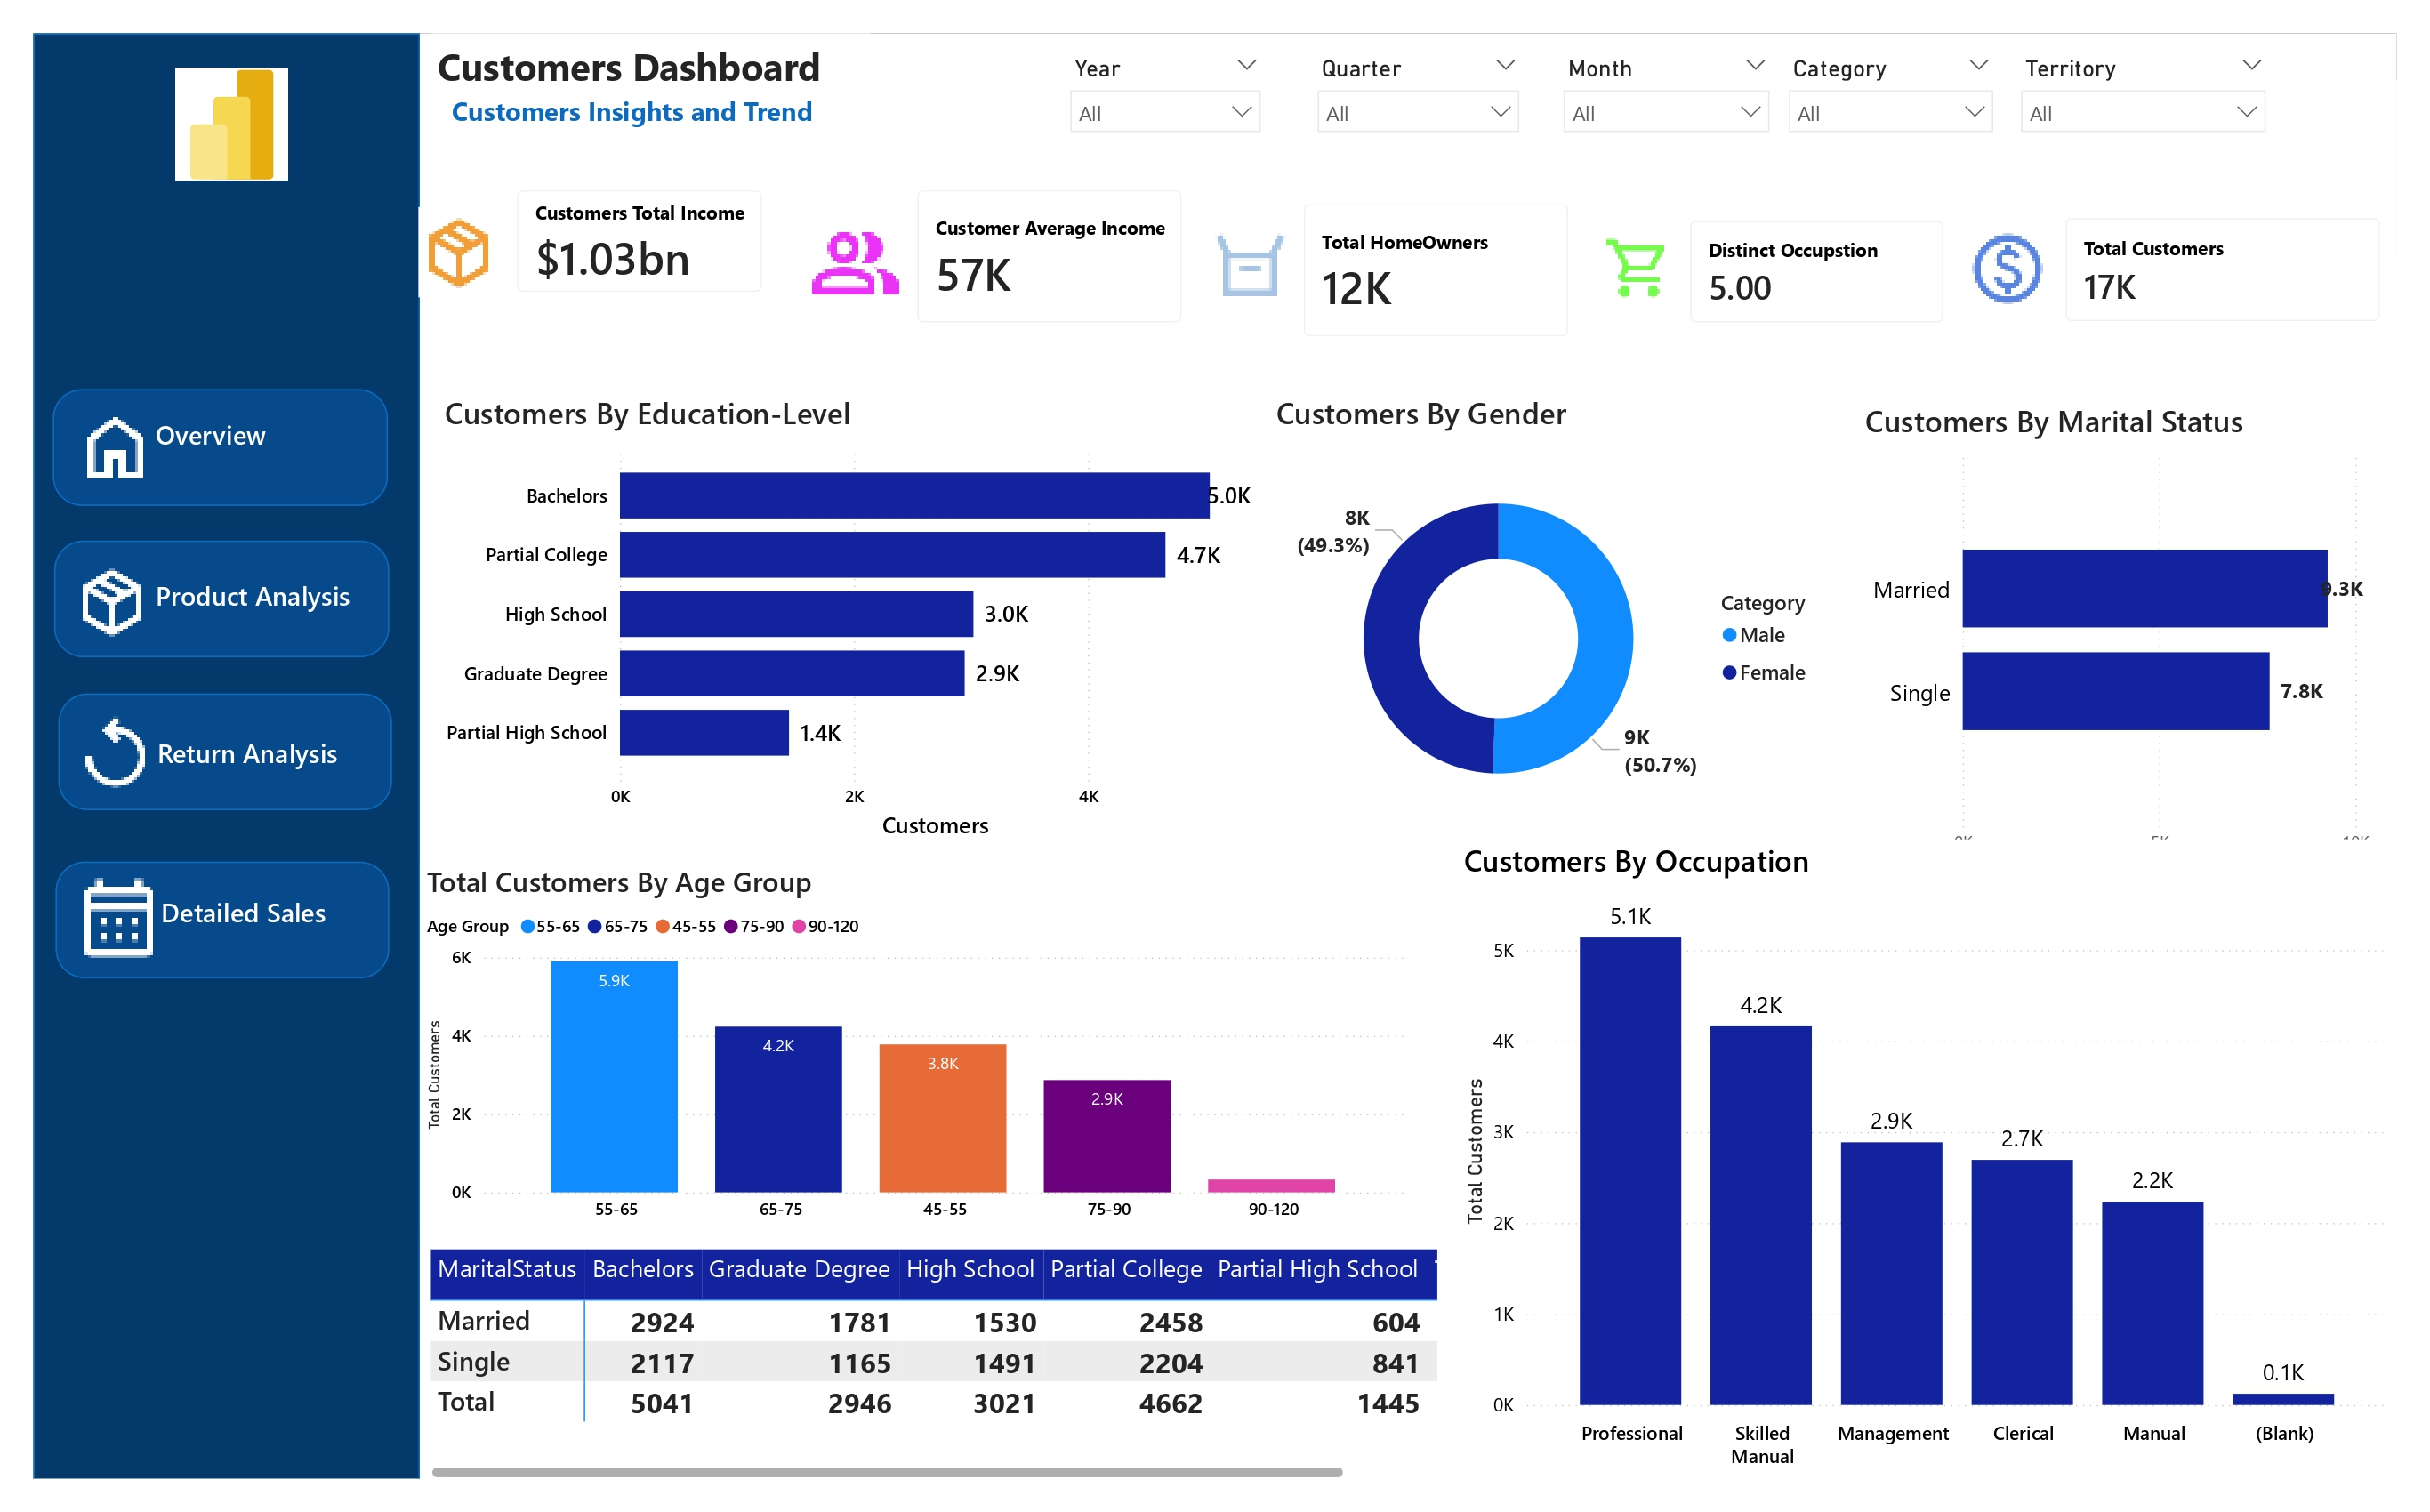

The dashboard page shown, as its layout file describes it:
{"tool":"powerbi","page":{"name":"Customers Dashboard","canvas":[1700,1040],"ordinal":3},"visuals":[{"type":"shape","box":[0,0,278,1400],"z":0},{"type":"group","id":"g1","title":"Group 2","box":[1129.5,131.8,50,74.3],"z":1000},{"type":"shape","box":[14,256,241.4,84.3],"z":1000,"group":"g3"},{"type":"shape","box":[15.2,364.7,241.4,84.3],"z":1000,"group":"g9"},{"type":"shape","box":[17.9,474.6,240,84],"z":1000,"group":"g11"},{"type":"shape","box":[16,596,240,84.3],"z":1000,"group":"g12"},{"type":"group","id":"g2","title":"Group 3","box":[552,132,78,66],"z":2000},{"type":"image","box":[78.2,25.4,128.9,80.3],"z":3000},{"type":"group","id":"g3","title":"Group 8","box":[14,256,242,84],"z":4000},{"type":"group","id":"g4","title":"Group 7","box":[29.2,266.1,208.1,64.3],"z":4000,"group":"g3"},{"type":"image","box":[29.2,266.1,60,64.3],"z":4000,"group":"g4"},{"type":"group","id":"g5","title":"Group 7","box":[21.5,381.1,220.6,57.1],"z":4000,"group":"g9"},{"type":"image","box":[21.5,381.1,71.4,57.1],"z":4000,"group":"g5"},{"type":"image","box":[29.9,484.4,58,66],"z":4000,"group":"g6"},{"type":"group","id":"g6","title":"Group 7","box":[29.9,484.4,222.2,73.2],"z":4000,"group":"g11"},{"type":"image","box":[25.3,603,72.9,67.1],"z":4000,"group":"g7"},{"type":"group","id":"g7","title":"Group 7","box":[25.3,603,230.2,67.1],"z":4000,"group":"g12"},{"type":"group","id":"g8","title":"Group 4","box":[277.1,125.4,57.7,65.4],"z":5000},{"type":"textbox","box":[83,271.2,154.3,48.6],"z":5000,"group":"g4"},{"type":"textbox","box":[83.5,386.7,158.6,38.6],"z":5000,"group":"g5"},{"type":"textbox","box":[84.1,499.6,168,58],"z":5000,"group":"g6"},{"type":"textbox","box":[86.9,615.2,168.6,45.7],"z":5000,"group":"g7"},{"type":"cardVisual","fields":{"Data":["Merge.Customers Total Income"]},"box":[336,96,200,102],"z":6000},{"type":"image","box":[1129.5,131.8,50,74.3],"z":6000,"group":"g1"},{"type":"image","box":[552,132,78.6,67.1],"z":7000,"group":"g2"},{"type":"group","id":"g9","title":"Group 8","box":[15.2,364.7,241.4,84.3],"z":7000},{"type":"image","box":[277.1,125.4,57.7,65.4],"z":8000,"group":"g8"},{"type":"group","id":"g10","title":"Group 5","box":[837.1,140,77.1,58.6],"z":8000},{"type":"image","box":[837.1,140,77.1,58.6],"z":9000,"group":"g10"},{"type":"group","id":"g11","title":"Group 8","box":[17.9,474.6,240,84],"z":9000},{"type":"group","id":"g12","title":"Group 8","box":[16,596,240,84],"z":10000},{"type":"textbox","box":[286,0,316,56],"z":11000},{"type":"textbox","box":[296,38,294,40],"z":12000},{"type":"slicer","fields":{"Values":["calendar.Year"]},"box":[735.7,10,157.1,68.6],"z":13000},{"type":"slicer","fields":{"Values":["calendar.Quarter"]},"box":[914.3,10,164.3,68.6],"z":14000},{"type":"slicer","fields":{"Values":["calendar.Month Name"]},"box":[1091.4,10,167.1,68.6],"z":15000},{"type":"slicer","fields":{"Values":["Merge.CategoryName"]},"box":[1252.9,10,167.1,68.6],"z":16000},{"type":"slicer","fields":{"Values":["sales.TerritoryKey"]},"box":[1420,10,195.7,68.6],"z":17000},{"type":"donutChart","title":"Customers By Gender","fields":{"Category":["customers2026.Gender"],"Y":["sales.Total Customers"]},"box":[894,258,404,322],"z":18000},{"type":"clusteredBarChart","title":"Customers By Education-Level","fields":{"Category":["customers2026.EducationLevel"],"Y":["sales.Total Customers"]},"box":[296,258,588,322],"z":19000},{"type":"pivotTable","fields":{"Columns":["customers2026.EducationLevel"],"Rows":["customers2026.MaritalStatus"],"Values":["sales.Total Customers"]},"box":[286,870,724,170],"z":20000},{"type":"cardVisual","fields":{"Data":["Customers Measures.Distinct Occupstion"]},"box":[1180,118,206,102],"z":21000},{"type":"cardVisual","fields":{"Data":["sales.Total Customers"]},"box":[1450,115.7,250,102.9],"z":22000},{"type":"image","box":[1385.7,140,68.6,58.6],"z":23000},{"type":"cardVisual","fields":{"Data":["Customers Measures.Customer Avg income"]},"box":[624,96,214,124],"z":24000},{"type":"clusteredBarChart","title":"Customers By Marital Status","fields":{"Category":["customers2026.MaritalStatus"],"Y":["sales.Total Customers"]},"box":[1318,264,368,344],"z":25000},{"type":"columnChart","title":"Customers By Occupation","fields":{"Category":["customers2026.Occupation"],"Y":["sales.Total Customers"]},"box":[1024,580,676,460],"z":26000},{"type":"columnChart","title":"Total Customers By Age Group","fields":{"Category":["customers2026.Age Group"],"Series":["customers2026.Age Group"],"Y":["sales.Total Customers"]},"box":[278,596,714,268],"z":27000},{"type":"cardVisual","fields":{"Data":["Customers Measures.Total HomeOwners"]},"box":[902,106,214,124],"z":28000},{"type":"actionButton","box":[30,258,208,84],"z":29000},{"type":"actionButton","box":[30,364,210,84],"z":30000},{"type":"actionButton","box":[24,474,222,84],"z":31000},{"type":"actionButton","box":[26,604,222,58],"z":32000}]}

Visuals, with their boxes on the page's 1700x1040 design canvas (x1, y1, x2, y2). These are canvas units, not pixel positions in the 2430x1512 screenshot, which may show the page scaled, cropped or inside an application window:
shape: [0,0,278,1400]
"Group 2" group: [1130,132,1180,206]
shape: [14,256,255,340]
shape: [15,365,257,449]
shape: [18,475,258,559]
shape: [16,596,256,680]
"Group 3" group: [552,132,630,198]
image: [78,25,207,106]
"Group 8" group: [14,256,256,340]
"Group 7" group: [29,266,237,330]
image: [29,266,89,330]
"Group 7" group: [22,381,242,438]
image: [22,381,93,438]
image: [30,484,88,550]
"Group 7" group: [30,484,252,558]
image: [25,603,98,670]
"Group 7" group: [25,603,256,670]
"Group 4" group: [277,125,335,191]
textbox: [83,271,237,320]
textbox: [84,387,242,425]
textbox: [84,500,252,558]
textbox: [87,615,256,661]
cardVisual - Merge.Customers Total Income: [336,96,536,198]
image: [1130,132,1180,206]
image: [552,132,631,199]
"Group 8" group: [15,365,257,449]
image: [277,125,335,191]
"Group 5" group: [837,140,914,199]
image: [837,140,914,199]
"Group 8" group: [18,475,258,559]
"Group 8" group: [16,596,256,680]
textbox: [286,0,602,56]
textbox: [296,38,590,78]
slicer - calendar.Year: [736,10,893,79]
slicer - calendar.Quarter: [914,10,1079,79]
slicer - calendar.Month Name: [1091,10,1258,79]
slicer - Merge.CategoryName: [1253,10,1420,79]
slicer - sales.TerritoryKey: [1420,10,1616,79]
"Customers By Gender" donutChart: [894,258,1298,580]
"Customers By Education-Level" clusteredBarChart: [296,258,884,580]
pivotTable - customers2026.EducationLevel x customers2026.MaritalStatus: [286,870,1010,1040]
cardVisual - Customers Measures.Distinct Occupstion: [1180,118,1386,220]
cardVisual - sales.Total Customers: [1450,116,1700,219]
image: [1386,140,1454,199]
cardVisual - Customers Measures.Customer Avg income: [624,96,838,220]
"Customers By Marital Status" clusteredBarChart: [1318,264,1686,608]
"Customers By Occupation" columnChart: [1024,580,1700,1040]
"Total Customers By Age Group" columnChart: [278,596,992,864]
cardVisual - Customers Measures.Total HomeOwners: [902,106,1116,230]
actionButton: [30,258,238,342]
actionButton: [30,364,240,448]
actionButton: [24,474,246,558]
actionButton: [26,604,248,662]
